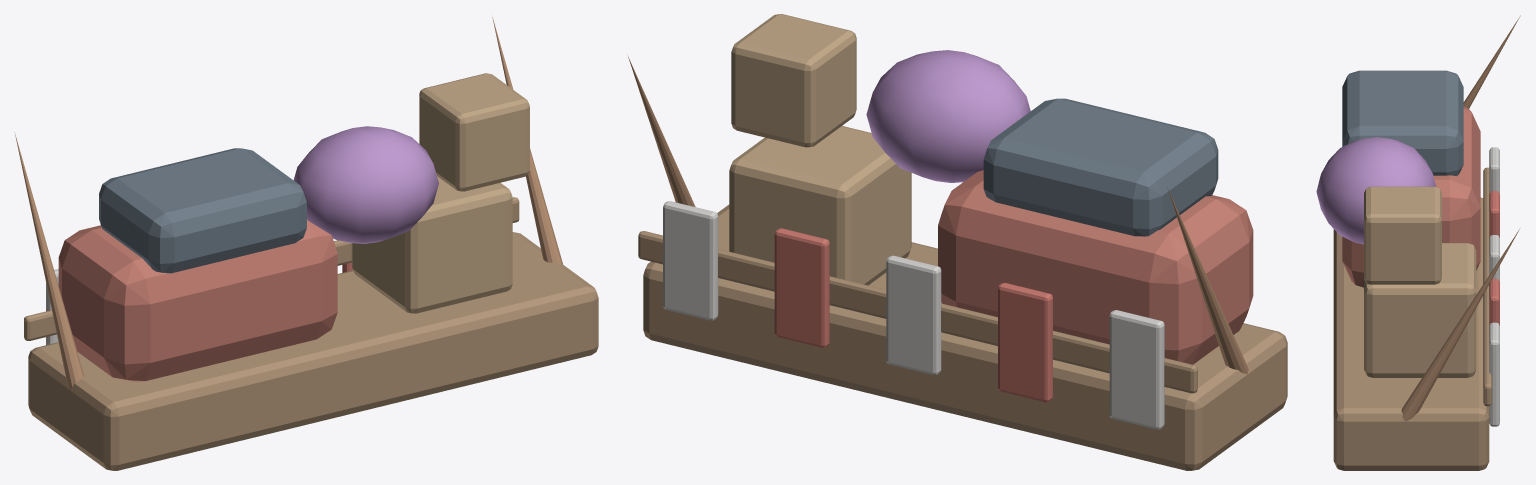
The model's file is boss_blockade.glb.
The picture shows the model from 3 angles, left to right: view 1: azimuth 30°, elevation 25°; view 2: azimuth 150°, elevation 25°; view 3: azimuth 270°, elevation 25°; orthographic projection. The views are drawn at different scales.
Visible parts, largest first — view 1: boss_blockade_Palette; view 2: boss_blockade_Palette; view 3: boss_blockade_Palette.
Boxes of the visible parts, left/top/right/bottom form: boss_blockade_Palette: left=14, top=16, right=598, bottom=470; boss_blockade_Palette: left=628, top=14, right=1287, bottom=470; boss_blockade_Palette: left=1316, top=15, right=1520, bottom=470.
Bounding box in the file's own units: 3 × 1.56 × 1.19.
